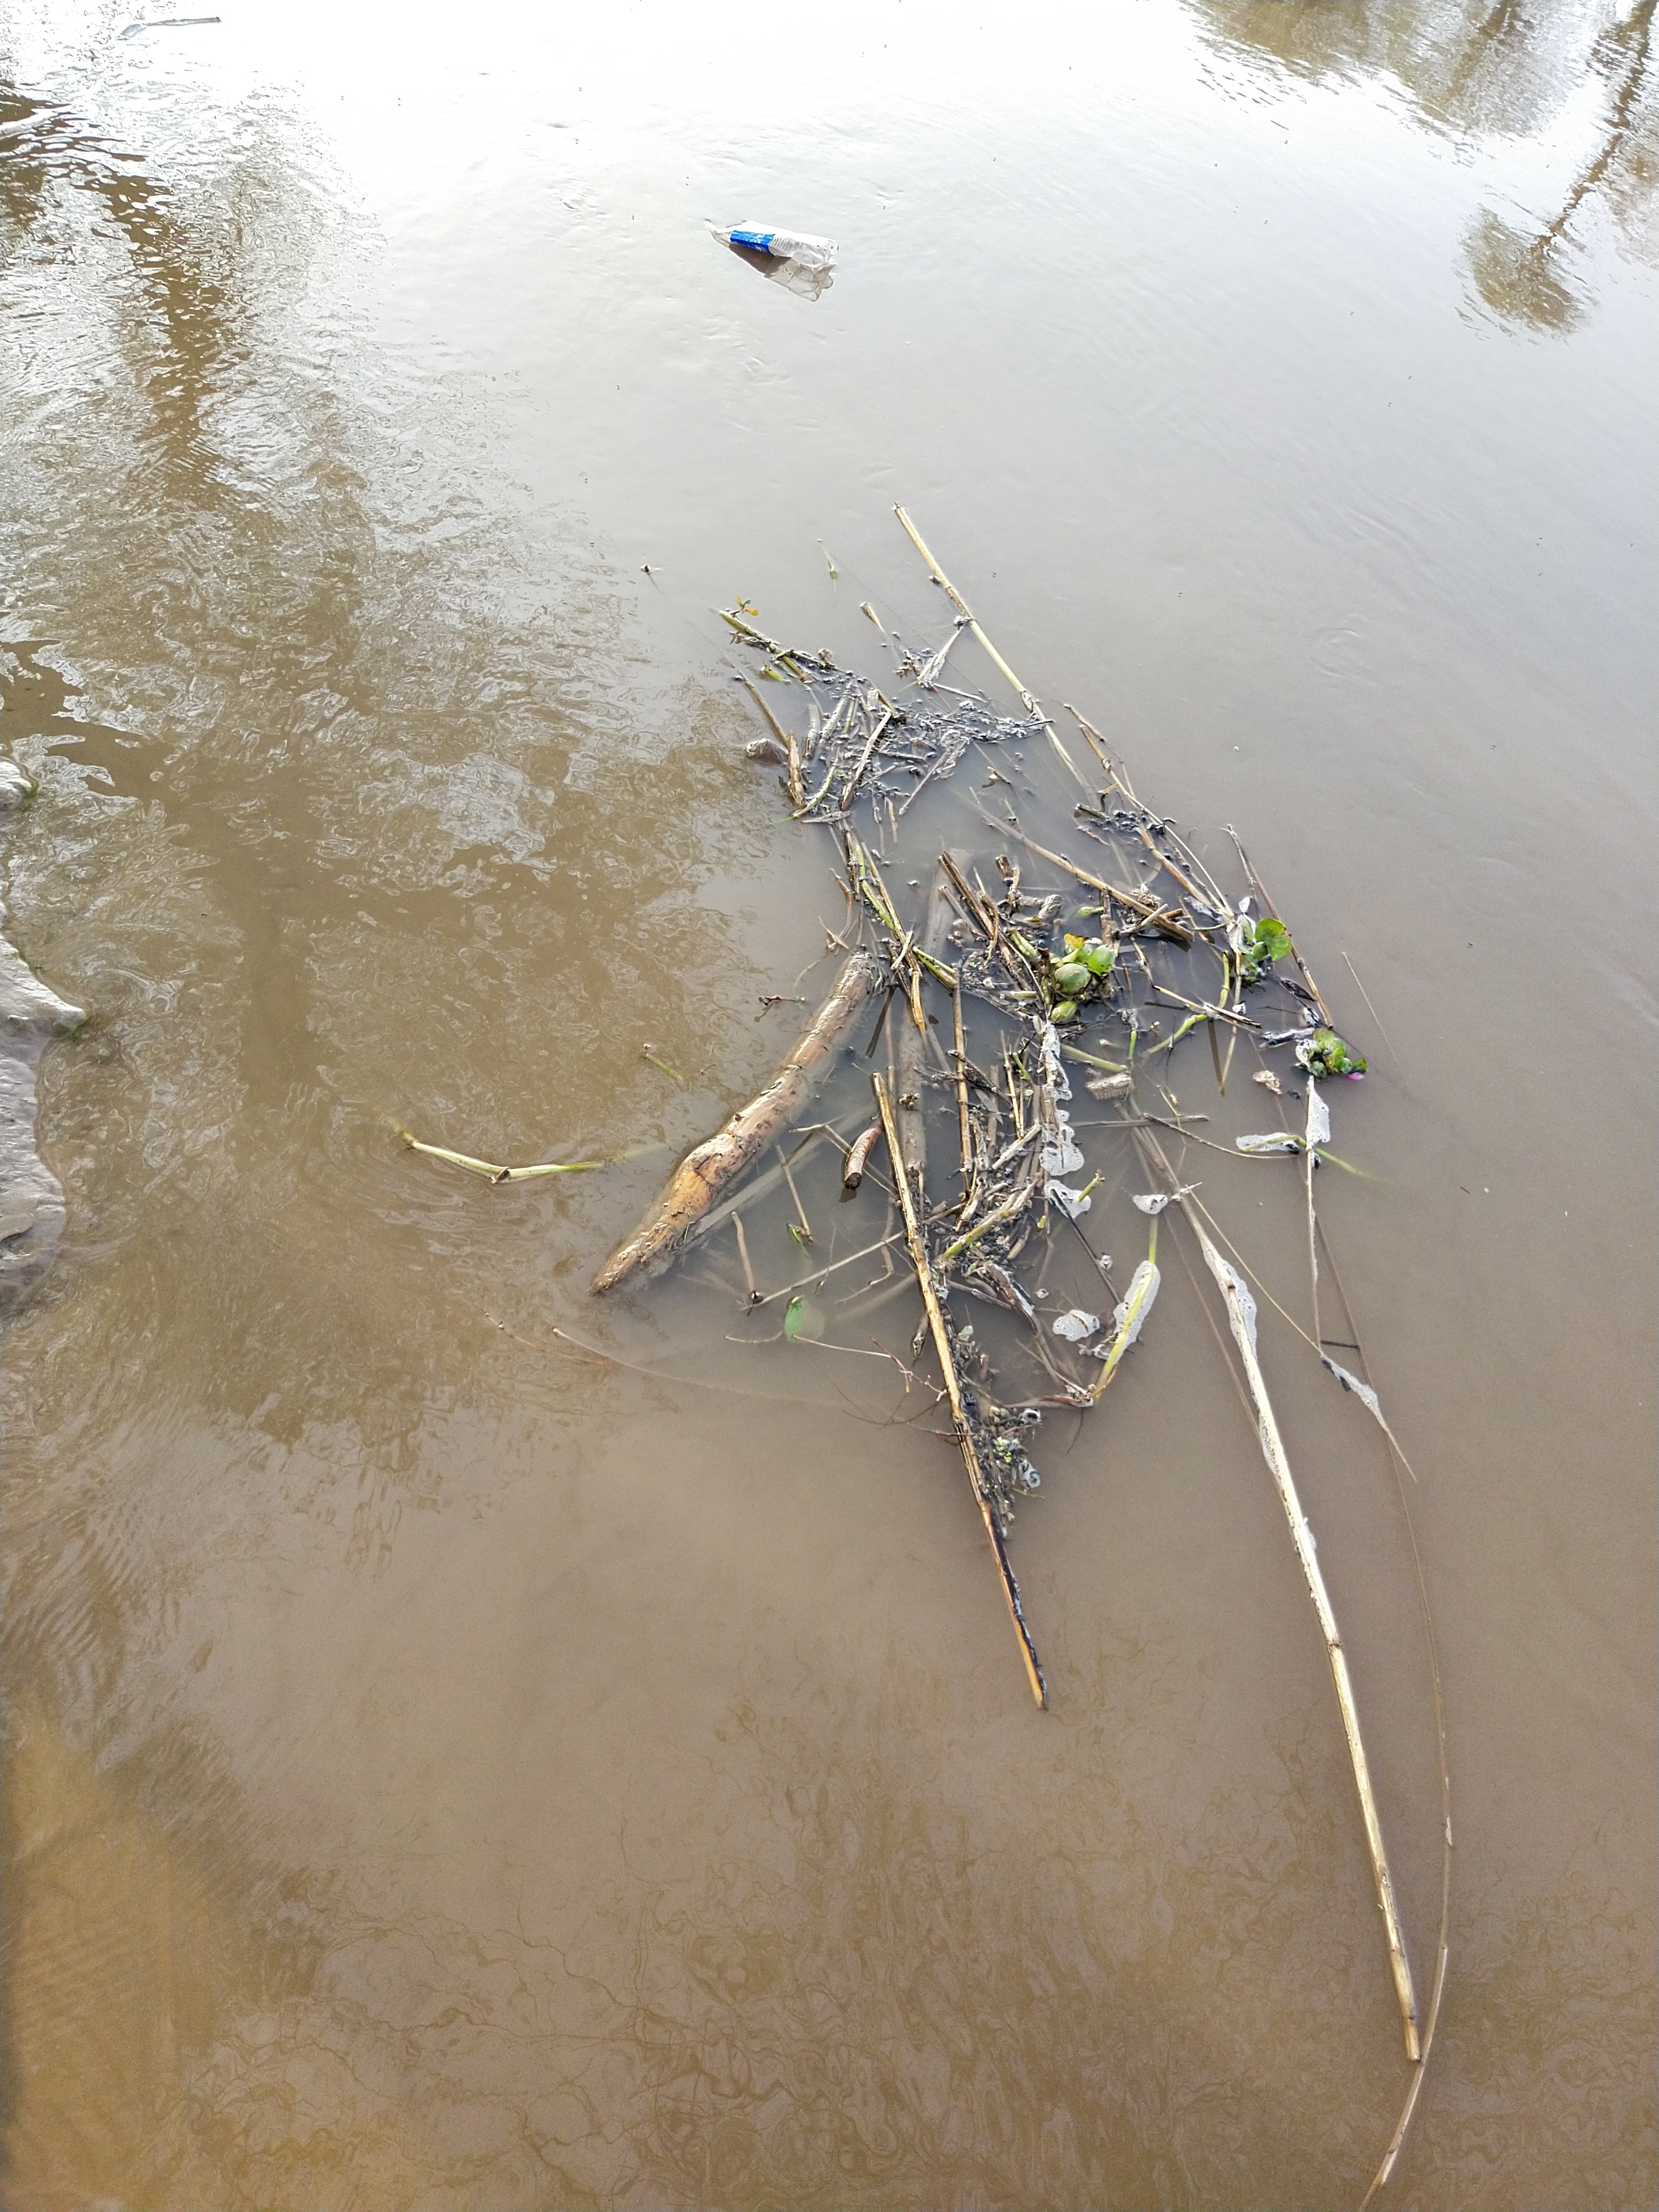Plastic Bottle: (706, 218, 838, 272)
